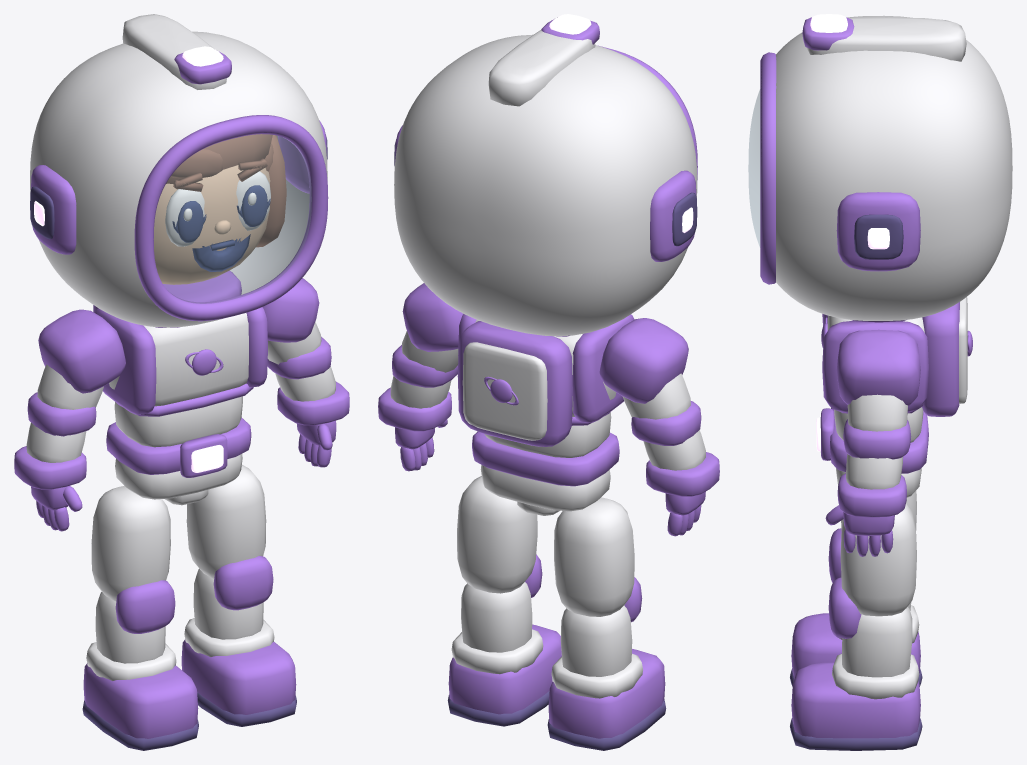
File: orbita-helmet.glb
3 views of the same model, side by side, from view 1: azimuth 30°, elevation 25°; view 2: azimuth 150°, elevation 25°; view 3: azimuth 270°, elevation 25° (orthographic). The views are drawn at different scales.
Parts seen in each view (by area): view 1: Helmet__helmet_shell, Visor__visor, Helmet__suit_primary, LeftThigh__suit_base, Chest__suit_primary, Chest__suit_base, RightThigh__suit_base, LeftFoot__suit_primary, RightFoot__suit_primary, Head__skin, LeftUpperArm__suit_primary, Hips__suit_primary (+28 smaller); view 2: Helmet__helmet_shell, Chest__suit_primary, LeftThigh__suit_base, RightThigh__suit_base, Chest__suit_base, LeftUpperArm__suit_primary, LeftFoot__suit_primary, RightFoot__suit_primary, Hips__suit_primary, LeftShin__suit_base, RightShin__suit_base, LeftForearm__suit_primary (+17 smaller); view 3: Helmet__helmet_shell, Helmet__suit_primary, Chest__suit_primary, RightFoot__suit_primary, RightThigh__suit_base, RightUpperArm__suit_primary, RightForearm__suit_primary, RightShin__suit_base, LeftFoot__suit_primary, RightHand__suit_primary, RightFoot__suit_base, Hips__suit_primary (+10 smaller).
Part boxes in pixels (x1,y1,x2,y2): Helmet__helmet_shell: [30, 14, 327, 327]; Visor__visor: [154, 134, 311, 303]; Helmet__suit_primary: [31, 51, 328, 321]; LeftThigh__suit_base: [91, 485, 170, 601]; Chest__suit_primary: [93, 305, 267, 416]; Chest__suit_base: [109, 313, 248, 406]; RightThigh__suit_base: [186, 465, 266, 578]; LeftFoot__suit_primary: [83, 663, 198, 738]; RightFoot__suit_primary: [181, 639, 296, 714]; Head__skin: [153, 165, 270, 284]; LeftUpperArm__suit_primary: [38, 309, 125, 393]; Hips__suit_primary: [106, 417, 251, 477]; Helmet__helmet_shell: [394, 30, 697, 336]; Chest__suit_primary: [457, 314, 634, 446]; LeftThigh__suit_base: [554, 497, 634, 616]; RightThigh__suit_base: [457, 476, 537, 593]; Chest__suit_base: [462, 320, 616, 440]; LeftUpperArm__suit_primary: [599, 318, 688, 403]; LeftFoot__suit_primary: [548, 649, 665, 738]; RightFoot__suit_primary: [448, 624, 561, 714]; Hips__suit_primary: [472, 431, 619, 486]; LeftShin__suit_base: [560, 605, 632, 676]; RightShin__suit_base: [461, 582, 532, 652]; LeftForearm__suit_primary: [631, 401, 719, 496]; Helmet__helmet_shell: [776, 15, 1012, 320]; Helmet__suit_primary: [760, 17, 920, 284]; Chest__suit_primary: [821, 302, 972, 416]; RightFoot__suit_primary: [791, 662, 920, 738]; RightThigh__suit_base: [840, 504, 916, 616]; RightUpperArm__suit_primary: [836, 329, 920, 406]; RightForearm__suit_primary: [837, 419, 911, 517]; RightShin__suit_base: [842, 607, 912, 677]; LeftFoot__suit_primary: [791, 613, 920, 678]; RightHand__suit_primary: [825, 505, 894, 556]; RightFoot__suit_base: [832, 653, 919, 699]; Hips__suit_primary: [820, 408, 928, 473].
Bounding box in the file's own units: 1.18 × 2.35 × 0.8157.
